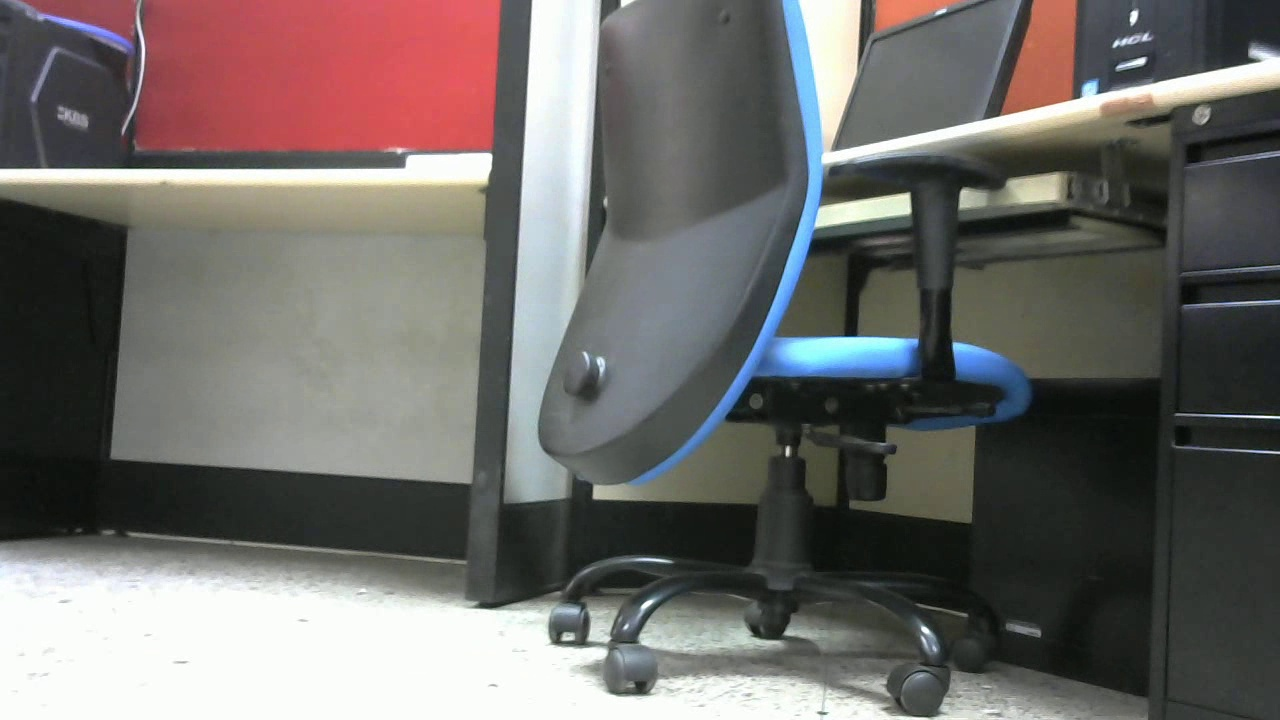chair: (529, 1, 1033, 715)
